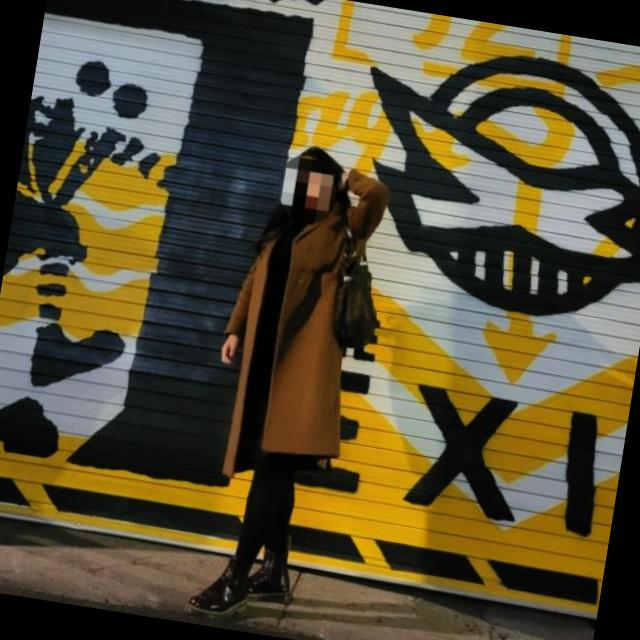coat: (203, 147, 394, 495)
